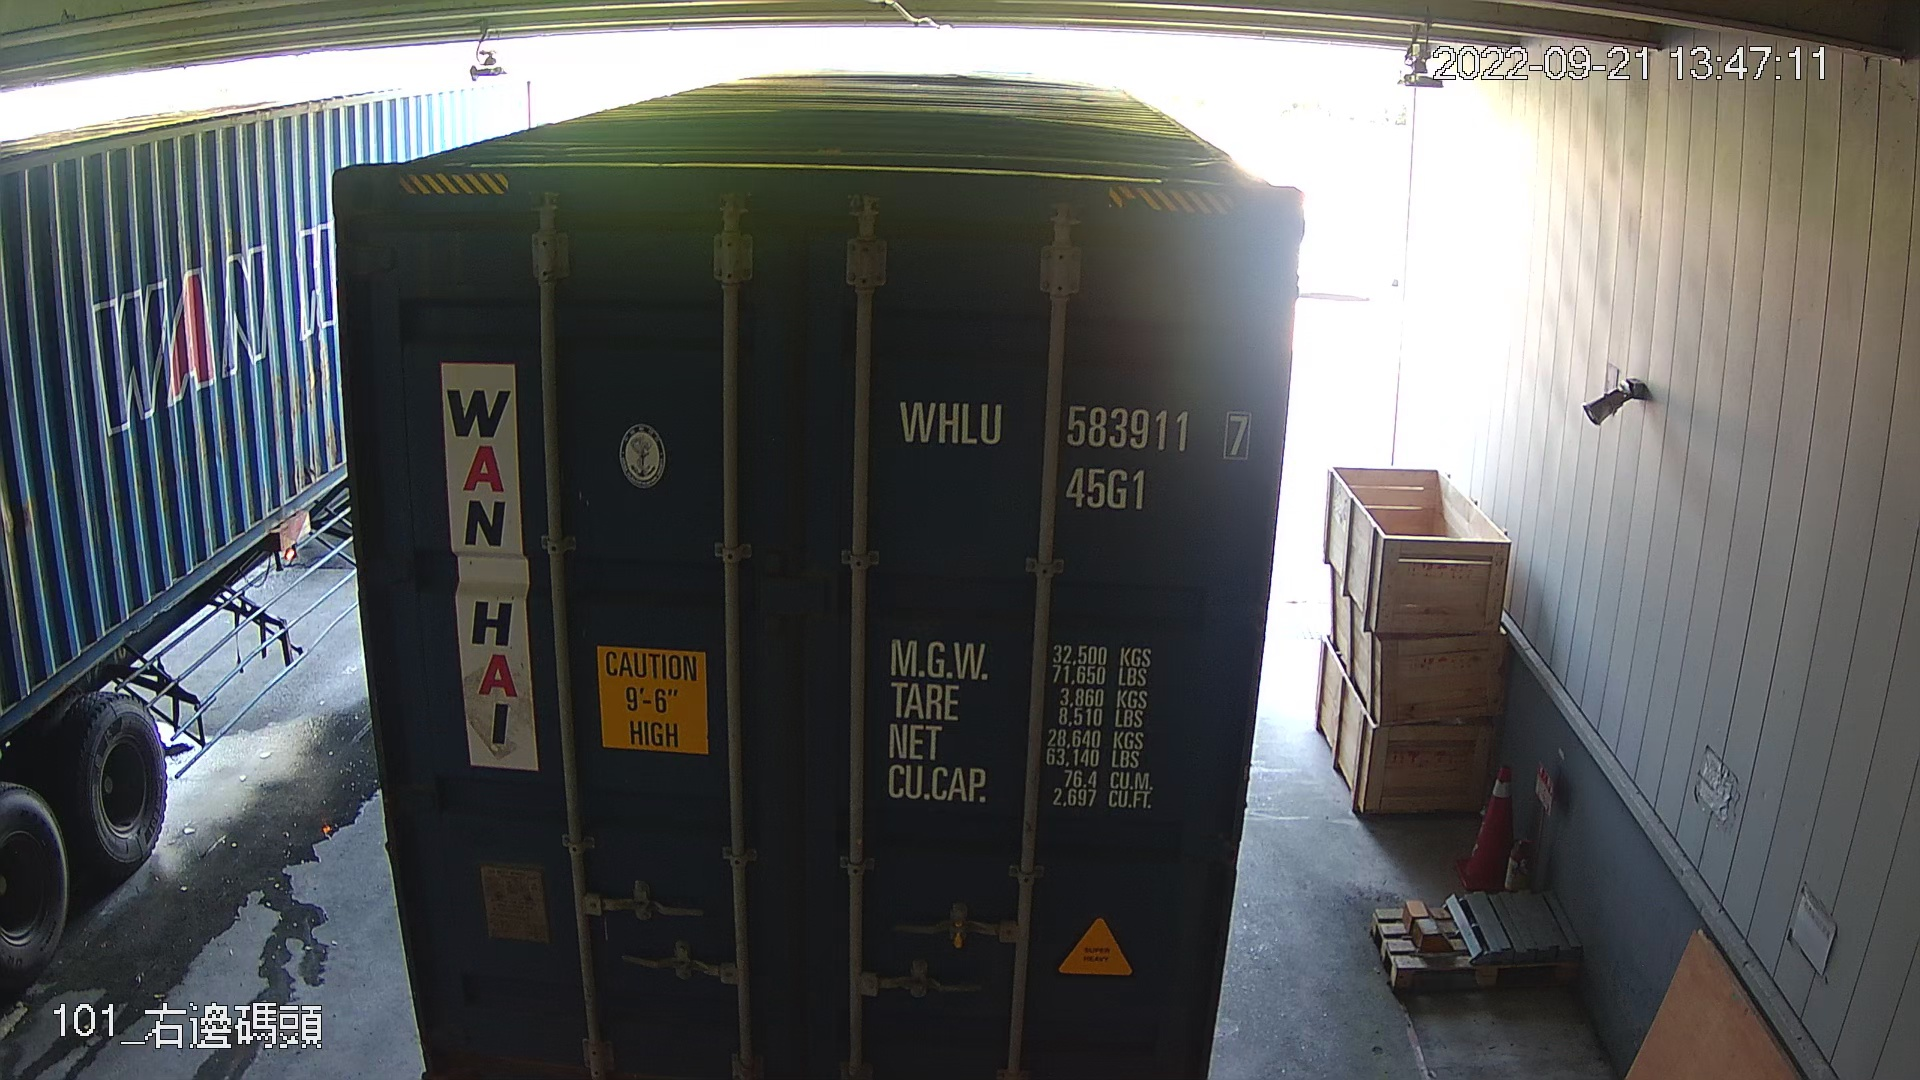container: (887, 385, 1266, 520)
